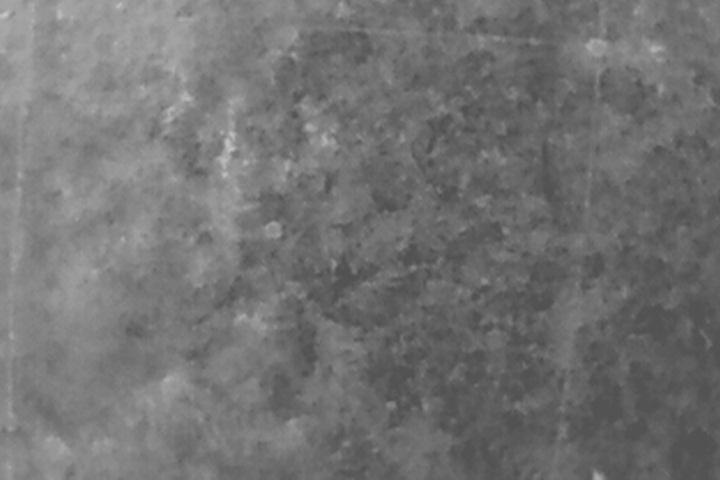landmine: (263, 220, 286, 242)
